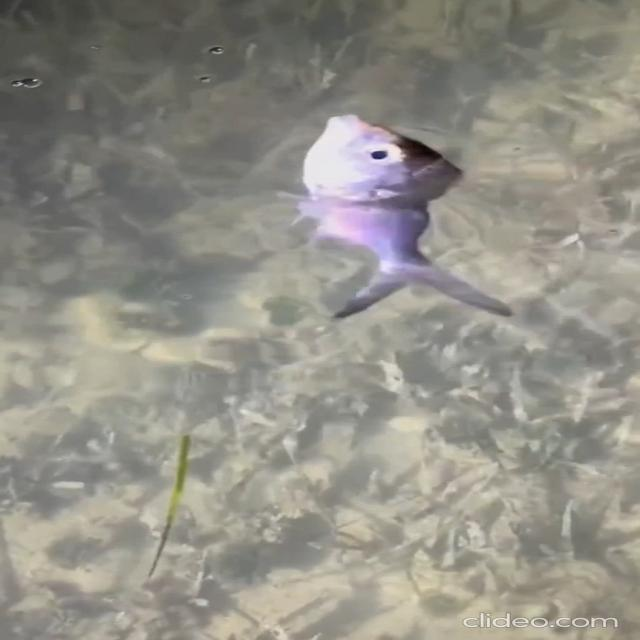fish: (265, 105, 538, 329)
